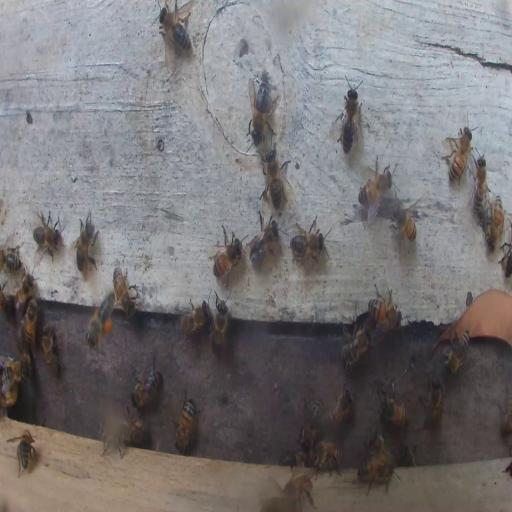nonpollenbee: (358, 158, 394, 215), (246, 217, 280, 270), (339, 78, 363, 153), (288, 216, 327, 262), (212, 225, 243, 282), (72, 211, 98, 277), (444, 126, 473, 185), (262, 147, 289, 210), (248, 76, 276, 136), (31, 211, 64, 259), (160, 4, 192, 51), (130, 362, 162, 407), (0, 352, 32, 396), (390, 198, 419, 246), (341, 324, 370, 369), (421, 376, 445, 430), (174, 394, 195, 454), (358, 455, 395, 489), (177, 298, 208, 337), (11, 429, 37, 475), (310, 439, 342, 476), (112, 266, 135, 317), (326, 385, 352, 430), (286, 471, 315, 511), (299, 400, 323, 448), (442, 334, 470, 372), (210, 296, 228, 354), (41, 323, 62, 372), (487, 193, 504, 253), (379, 393, 406, 429), (473, 154, 488, 216), (368, 298, 397, 327), (22, 298, 38, 350), (121, 414, 147, 444), (14, 271, 34, 308), (500, 386, 512, 439), (2, 246, 22, 272), (501, 228, 511, 276), (366, 435, 385, 458), (399, 445, 416, 465), (280, 453, 304, 466), (1, 286, 11, 314)
pollenbee: (88, 297, 114, 353)
